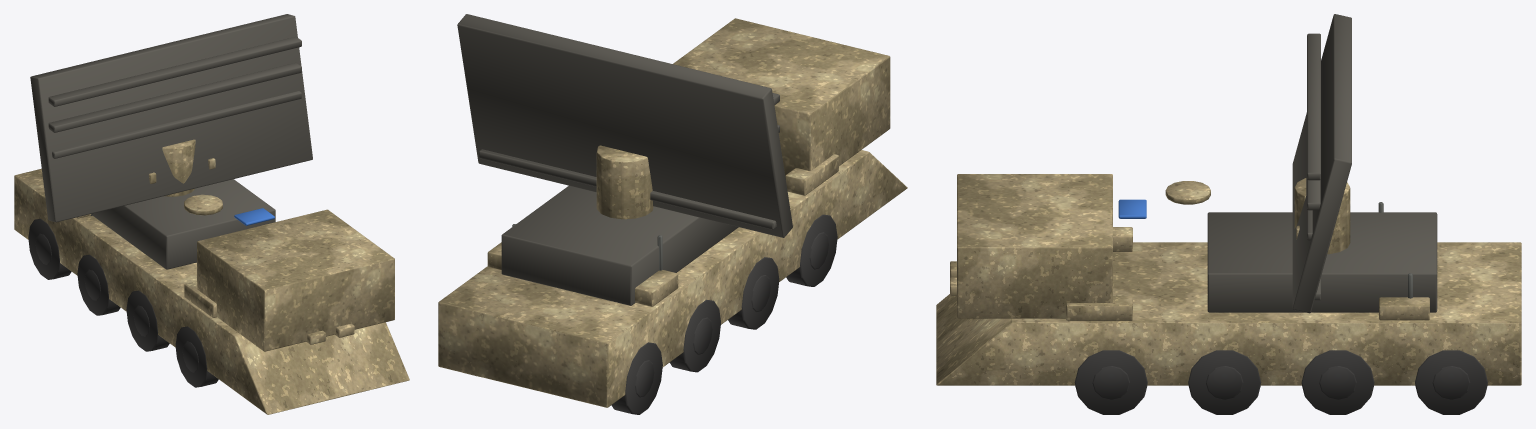
The model's file is rad_e4_us_search_LOD0.glb.
3 renders of one model, left to right at view 1: azimuth 30°, elevation 25°; view 2: azimuth 150°, elevation 25°; view 3: azimuth 270°, elevation 25°, orthographic. The views are drawn at different scales.
Parts seen in each view (by area): view 1: rad_e4_us_search_LOD0_deck, rad_e4_us_search_LOD0_body, rad_e4_us_search_LOD0_track, rad_e4_us_search_LOD0_team; view 2: rad_e4_us_search_LOD0_deck, rad_e4_us_search_LOD0_body, rad_e4_us_search_LOD0_track; view 3: rad_e4_us_search_LOD0_body, rad_e4_us_search_LOD0_deck, rad_e4_us_search_LOD0_track, rad_e4_us_search_LOD0_team.
Part boxes in pixels (x1,y1,x2,y2): rad_e4_us_search_LOD0_deck: (30,14,312,269); rad_e4_us_search_LOD0_body: (14,139,409,414); rad_e4_us_search_LOD0_track: (28,218,218,387); rad_e4_us_search_LOD0_team: (234,208,274,225); rad_e4_us_search_LOD0_deck: (457,14,792,305); rad_e4_us_search_LOD0_body: (438,18,907,407); rad_e4_us_search_LOD0_track: (471,214,837,414); rad_e4_us_search_LOD0_body: (936,174,1521,385); rad_e4_us_search_LOD0_deck: (1207,14,1437,313); rad_e4_us_search_LOD0_track: (1074,350,1487,414); rad_e4_us_search_LOD0_team: (1118,199,1146,218).
Bounding box in the file's own units: 5.4 × 5 × 9.19.
5 materials, 1 textured.
